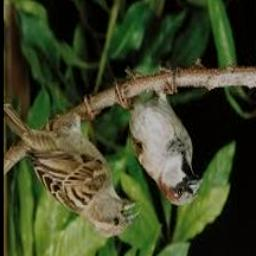Sparrow: (4, 95, 141, 237), (115, 69, 204, 206)
